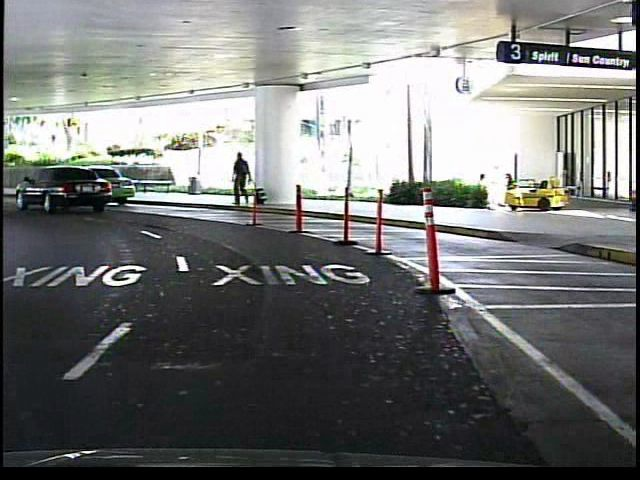person: (227, 149, 255, 212)
